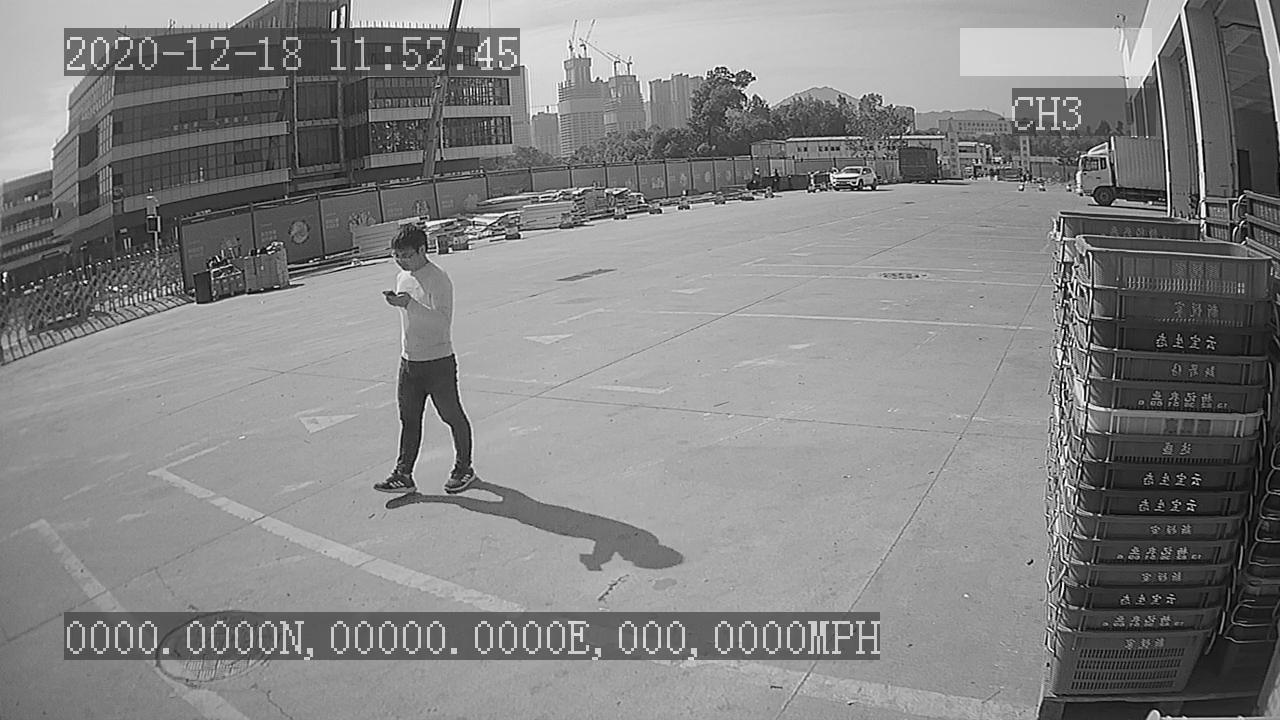person: (358, 220, 488, 510)
